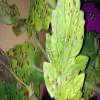Tomato Septoria leaf spot: (43, 1, 89, 100), (0, 40, 42, 99), (1, 3, 27, 43)
